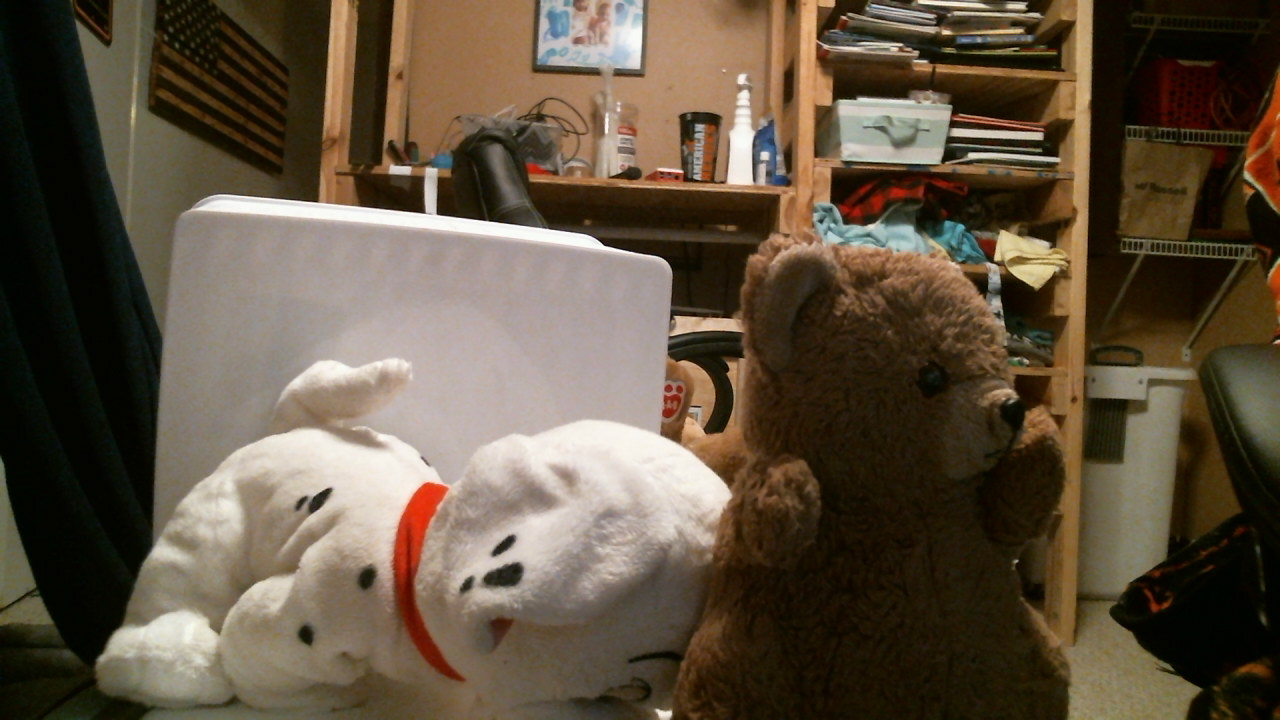Little_Mister_Bear: (910, 366, 1026, 488)
